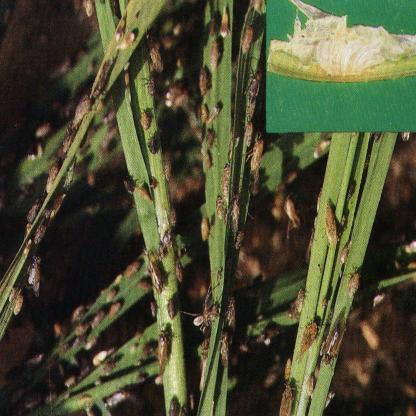brown-planthopper: (248, 140, 266, 192), (298, 319, 320, 357), (71, 96, 94, 132), (146, 35, 164, 74), (247, 71, 265, 107), (324, 204, 338, 245), (280, 384, 298, 414), (158, 329, 170, 374), (148, 262, 164, 294), (240, 26, 257, 54), (45, 164, 61, 190), (108, 298, 126, 321), (347, 269, 360, 297), (340, 238, 354, 264), (125, 260, 144, 279), (219, 164, 228, 201), (233, 196, 242, 232), (220, 336, 230, 367), (197, 67, 208, 95), (76, 320, 93, 338), (210, 42, 221, 69), (209, 105, 223, 125), (93, 307, 105, 330), (296, 288, 306, 314), (228, 298, 237, 326), (174, 261, 184, 286), (166, 299, 178, 319), (206, 132, 219, 150), (221, 9, 229, 38), (244, 124, 254, 144), (215, 194, 223, 218), (138, 112, 150, 128), (162, 161, 171, 182), (200, 218, 208, 240), (284, 356, 292, 378), (148, 138, 158, 155), (147, 76, 155, 96), (199, 104, 208, 120), (204, 152, 212, 170), (124, 180, 132, 194)
